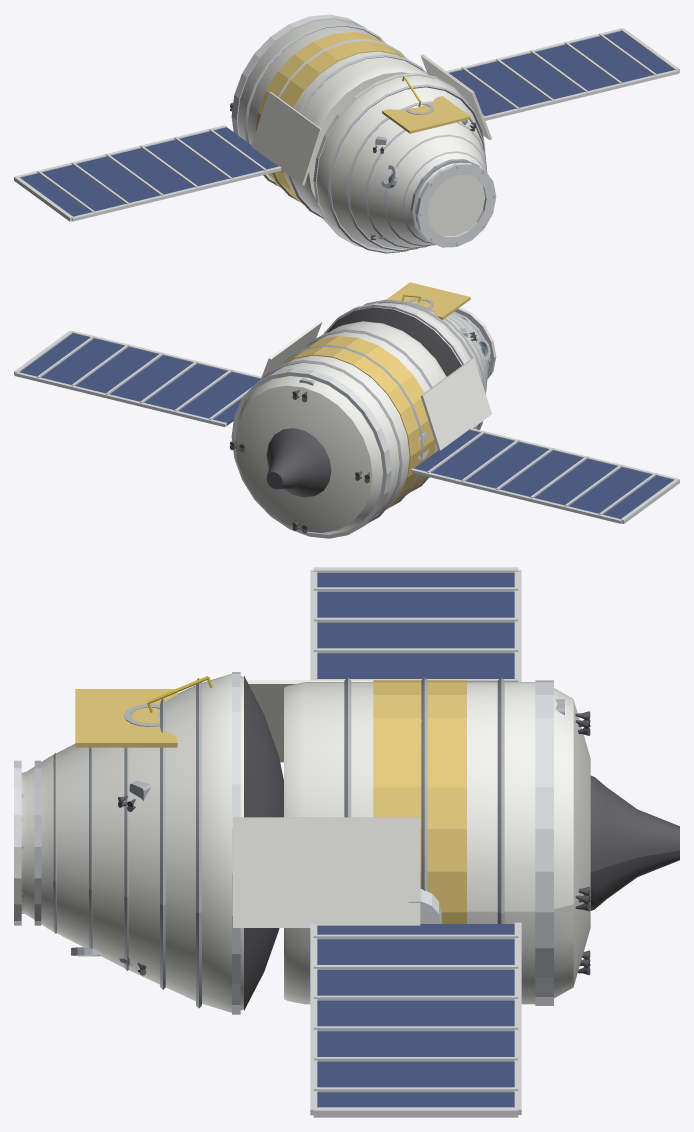
File: orbital-station-and-docking-bays-crew-ferry-capsule-9b393885__24565.glb
The picture shows the model from 3 angles, top to bottom: view 1: azimuth 30°, elevation 25°; view 2: azimuth 150°, elevation 25°; view 3: azimuth 270°, elevation 25°; orthographic projection. The views are drawn at different scales.
Visible parts, largest first — view 1: crew-ferry-capsule; view 2: crew-ferry-capsule; view 3: crew-ferry-capsule.
Part boxes in pixels (<box>): crew-ferry-capsule: <box>14,14,679,253</box>; crew-ferry-capsule: <box>14,282,679,538</box>; crew-ferry-capsule: <box>14,567,679,1117</box>.
Size of the model in its own units: 15.09 by 4.19 by 7.82.
